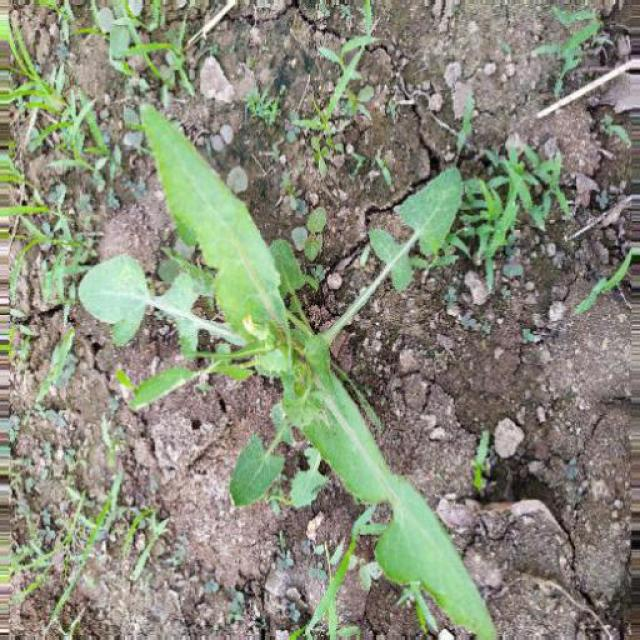weed: (49, 69, 564, 640)
